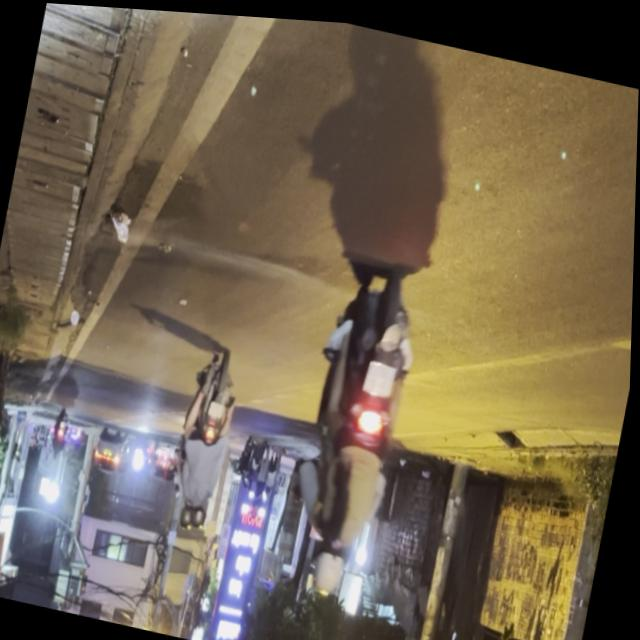helmet: (312, 537, 353, 596), (193, 502, 212, 530), (183, 501, 200, 530)
licenseplate: (281, 253, 434, 608), (168, 341, 251, 537)
nohelmet: (365, 357, 400, 395), (211, 400, 227, 418)
